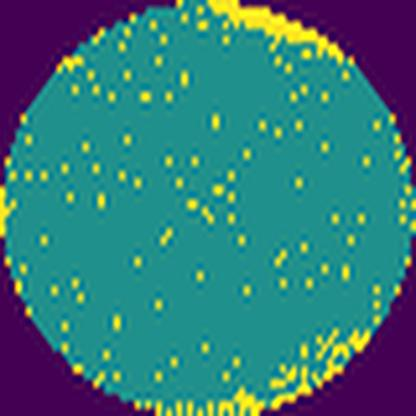Edge-Loc: (140, 318, 377, 416), (195, 0, 362, 67)
